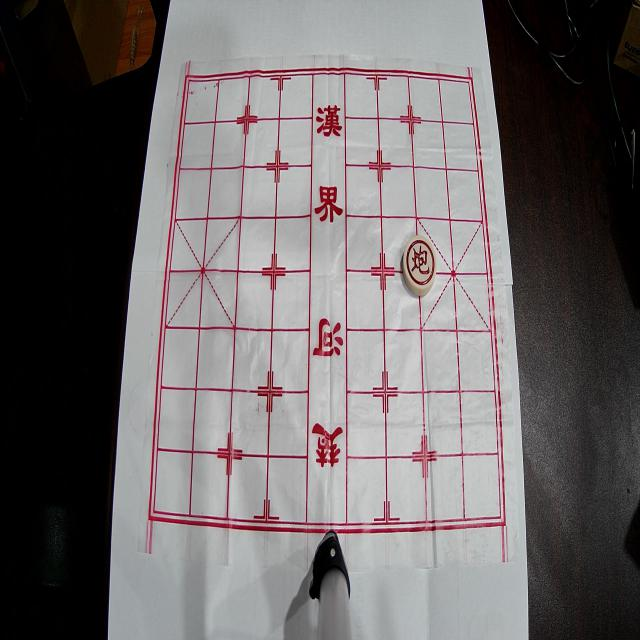red-cannon: (402, 236, 437, 296)
